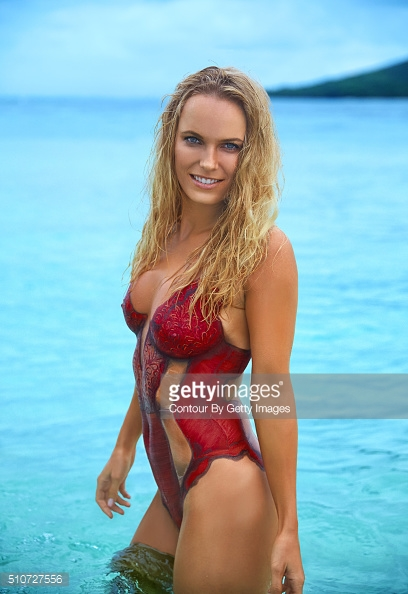em pe: (88, 49, 310, 593)
